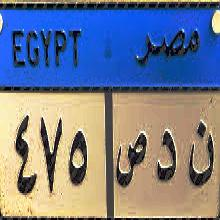3: (14, 116, 37, 198)
5: (65, 126, 94, 191)
7: (40, 116, 66, 194)
daal: (155, 131, 180, 184)
noon: (184, 122, 216, 191)
saad: (115, 126, 149, 190)
